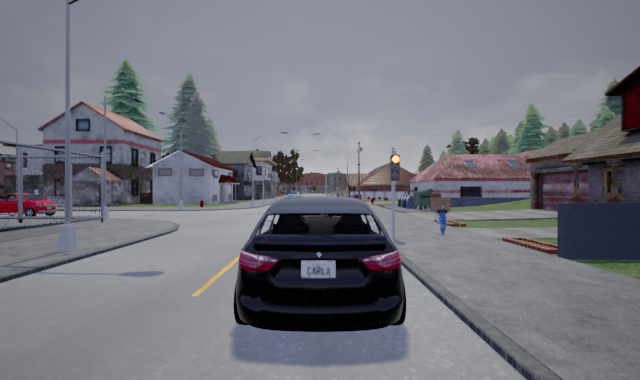pedestrian: (435, 201, 449, 237)
traffic_light: (390, 153, 400, 182)
vehicle: (232, 197, 406, 331), (1, 192, 61, 218)
